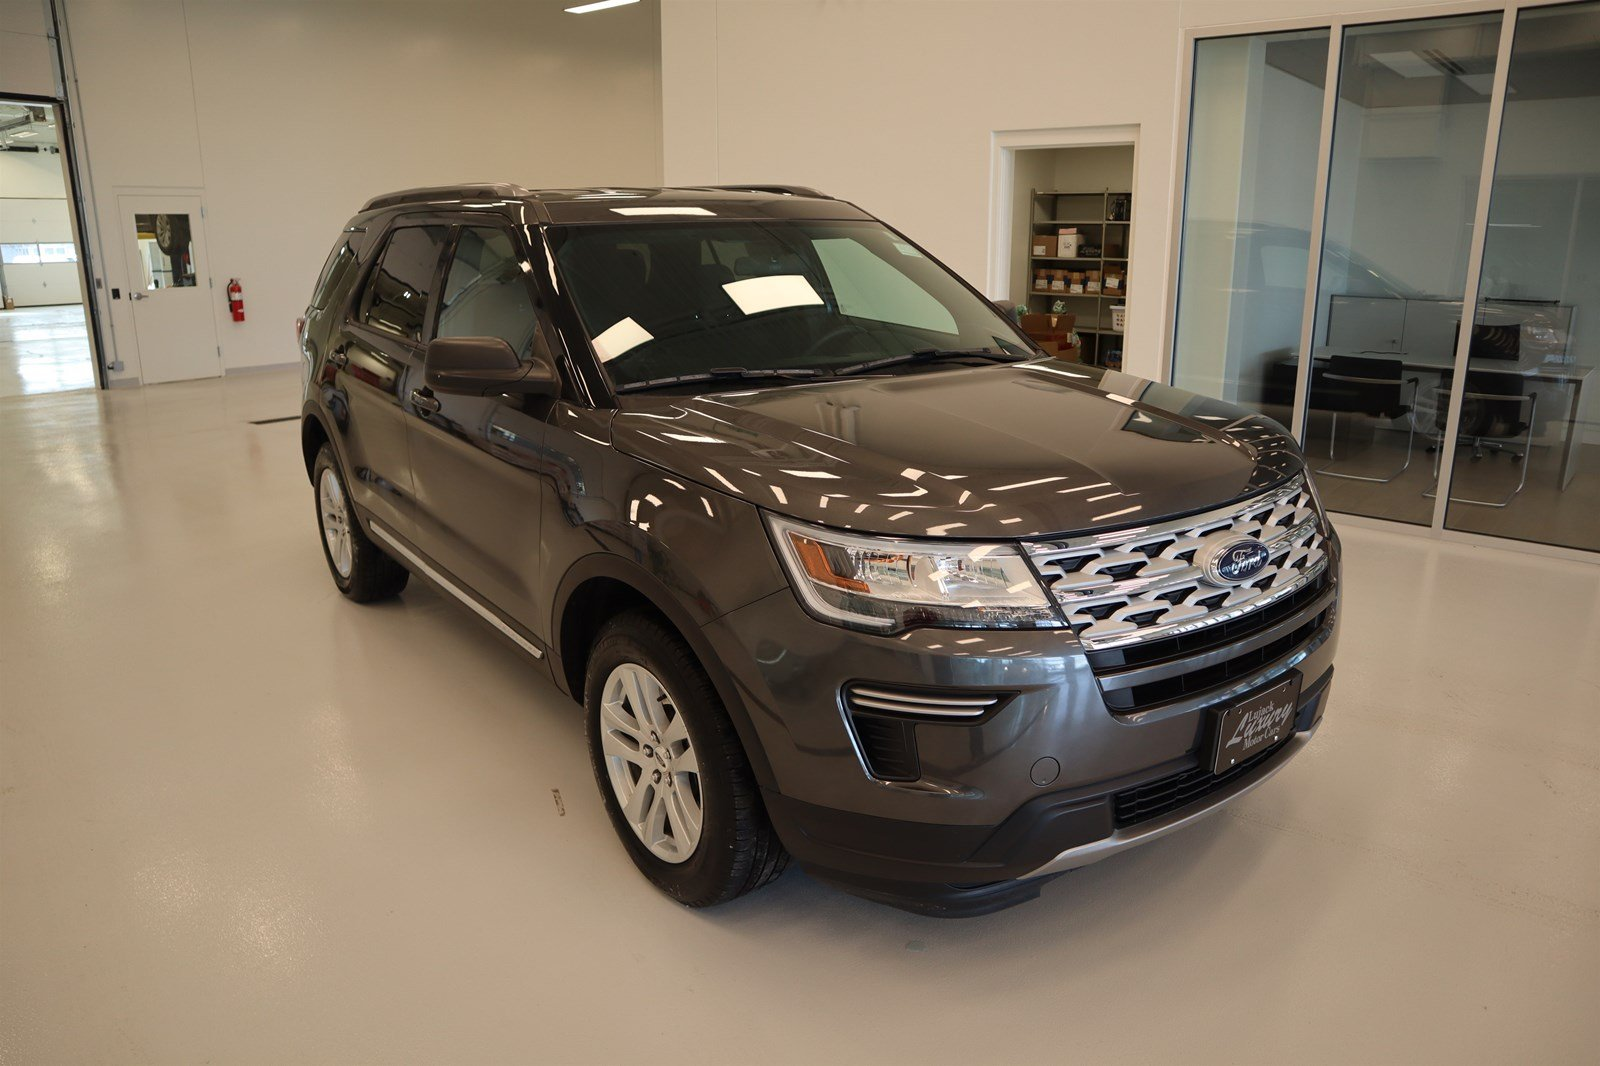Ford Explorer: (286, 174, 1355, 932)
